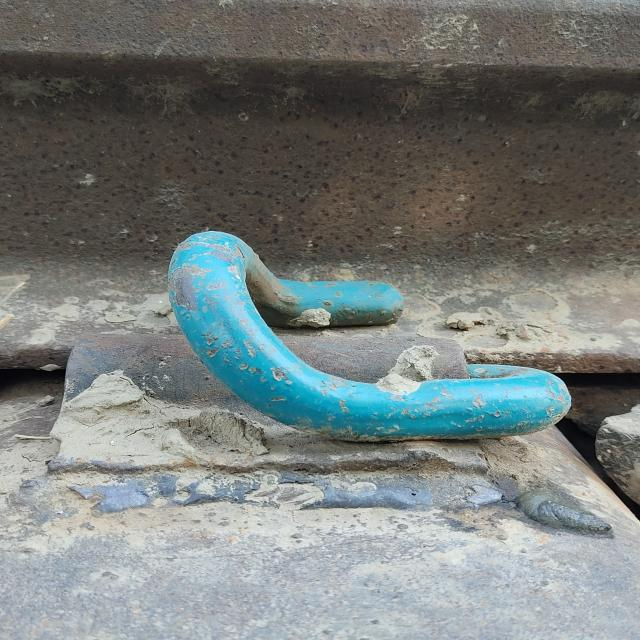track_bolt: (157, 222, 580, 455)
